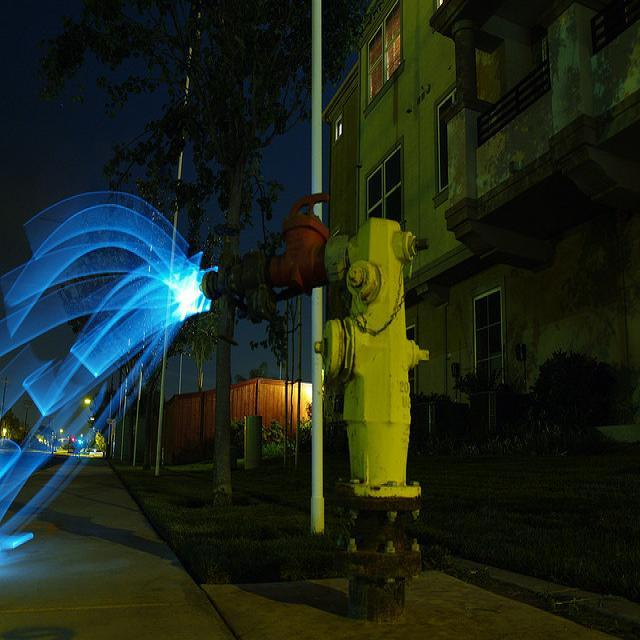fire_hydrant: (202, 189, 430, 619)
